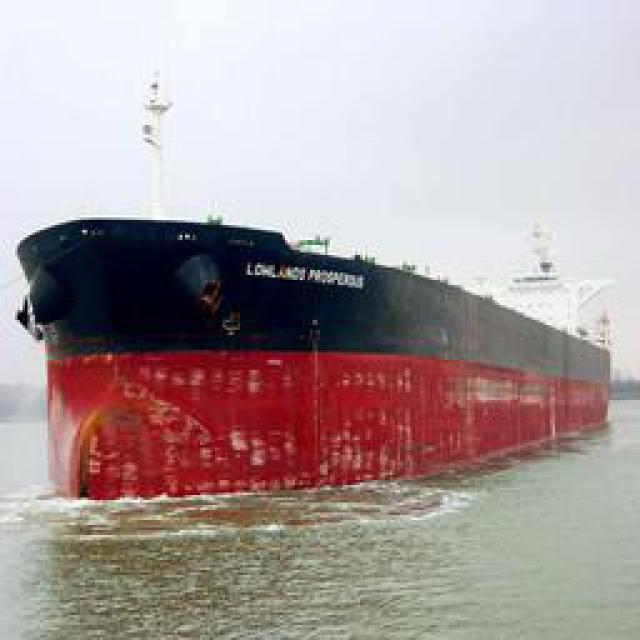Ship: (8, 54, 640, 521)
